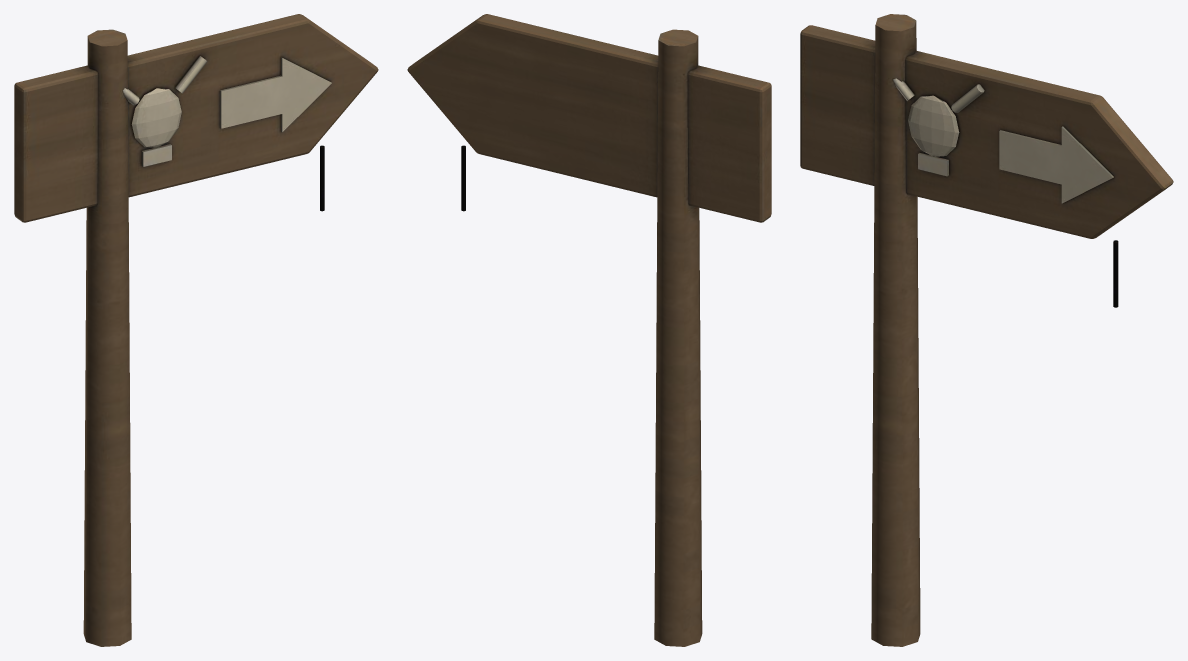
The model's file is dg_placa_chefe.glb.
3 views of the same model, side by side, from view 1: azimuth 30°, elevation 25°; view 2: azimuth 150°, elevation 25°; view 3: azimuth 330°, elevation 25° (orthographic). The views are drawn at different scales.
Visible parts, largest first — view 1: dg_placa_chefe_tronco; view 2: dg_placa_chefe_tronco; view 3: dg_placa_chefe_tronco.
Part boxes in pixels (<box>): dg_placa_chefe_tronco: <box>14,14,378,646</box>; dg_placa_chefe_tronco: <box>407,14,771,646</box>; dg_placa_chefe_tronco: <box>800,14,1173,646</box>.
Bounding box in the file's own units: 0.9965 × 1.6 × 0.12.
1 material, 1 textured.
